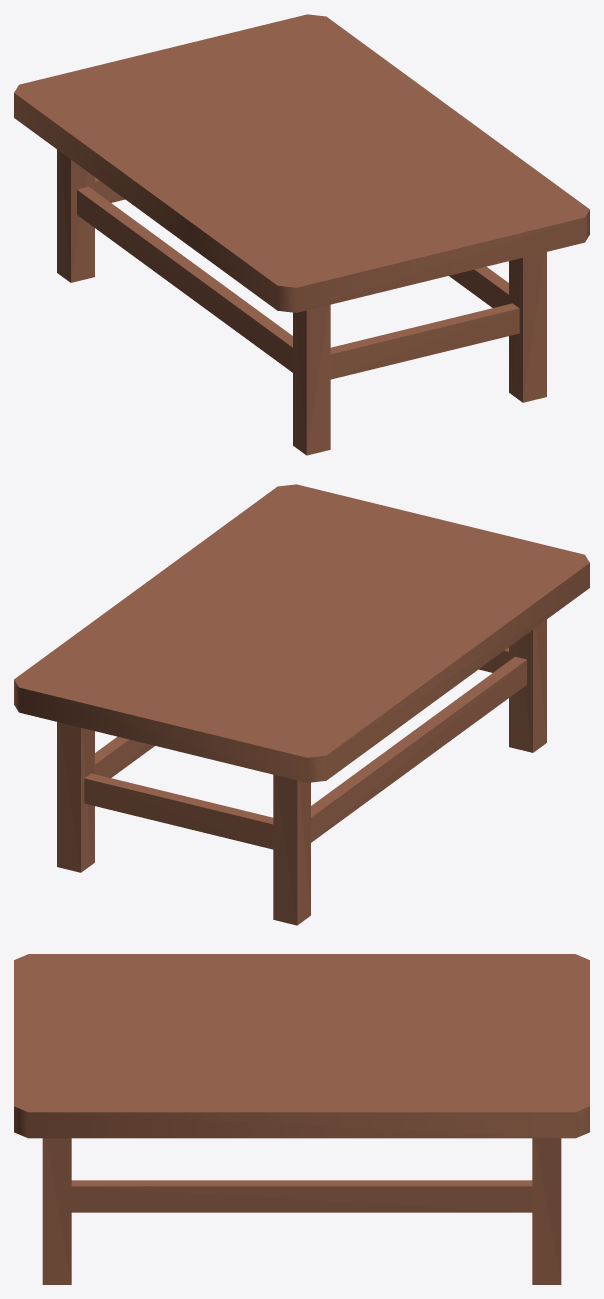
Rendered from fantasytown_stall.glb.
The picture shows the model from 3 angles, top to bottom: view 1: azimuth 30°, elevation 25°; view 2: azimuth 150°, elevation 25°; view 3: azimuth 270°, elevation 25°; orthographic projection. The views are drawn at different scales.
Visible parts, largest first — view 1: fantasytown_stall; view 2: fantasytown_stall; view 3: fantasytown_stall.
Part boxes in pixels (x1,y1,x2,y2): fantasytown_stall: [14, 14, 589, 455]; fantasytown_stall: [14, 484, 589, 925]; fantasytown_stall: [14, 954, 589, 1284].
Bounding box in the file's own units: 0.65 × 0.3655 × 1.
